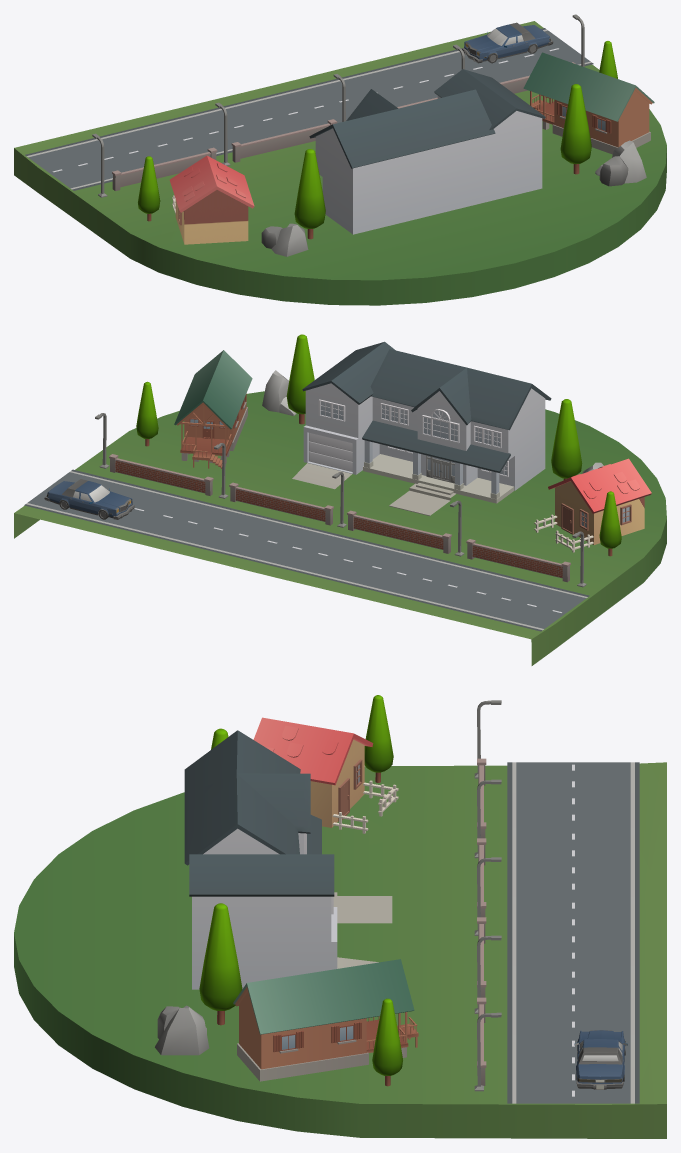
The model's file is Level__Finish.fbx.
The picture shows the model from 3 angles, top to bottom: view 1: azimuth 30°, elevation 25°; view 2: azimuth 150°, elevation 25°; view 3: azimuth 270°, elevation 25°; orthographic projection. The views are drawn at different scales.
Parts seen in each view (by area): view 1: Finish_Ground, TwoFloorHouseFloor, CabinFloor, SmallHouseFloor, Road_4, Road_5, Road_3, Road_2, Road_1, Car, Tree_3, Tree_4 (+6 smaller); view 2: Finish_Ground, TwoFloorHouseFloor, CabinFloor, SmallHouseFloor, Road_4, Road_2, Road_3, Road_5, Road_1, Car, Tree_4, Street_Wall_4 (+7 smaller); view 3: Finish_Ground, TwoFloorHouseFloor, CabinFloor, Road_4, Road_3, Road_2, Road_5, SmallHouseFloor, Road_1, Tree_3, Car, Rock_1 (+2 smaller).
Part boxes in pixels (left/top/right/bottom): Finish_Ground: left=14, top=21, right=666, bottom=305; TwoFloorHouseFloor: left=309, top=69, right=545, bottom=234; CabinFloor: left=523, top=52, right=654, bottom=154; SmallHouseFloor: left=169, top=155, right=254, bottom=244; Road_4: left=124, top=105, right=272, bottom=161; Road_5: left=25, top=130, right=166, bottom=190; Road_3: left=230, top=79, right=362, bottom=136; Road_2: left=335, top=53, right=461, bottom=106; Road_1: left=440, top=28, right=593, bottom=82; Car: left=462, top=22, right=553, bottom=63; Tree_3: left=560, top=84, right=591, bottom=174; Tree_4: left=294, top=149, right=325, bottom=239; Finish_Ground: left=14, top=391, right=666, bottom=665; TwoFloorHouseFloor: left=292, top=341, right=551, bottom=515; CabinFloor: left=174, top=350, right=252, bottom=468; SmallHouseFloor: left=534, top=458, right=651, bottom=552; Road_4: left=337, top=546, right=490, bottom=607; Road_2: left=128, top=495, right=281, bottom=556; Road_3: left=233, top=520, right=385, bottom=581; Road_5: left=442, top=571, right=589, bottom=631; Road_1: left=24, top=469, right=176, bottom=530; Car: left=44, top=479, right=134, bottom=519; Tree_4: left=551, top=399, right=582, bottom=480; Street_Wall_4: left=466, top=539, right=570, bottom=582; Finish_Ground: left=14, top=762, right=666, bottom=1138; TwoFloorHouseFloor: left=184, top=730, right=392, bottom=989; CabinFloor: left=233, top=959, right=418, bottom=1081; Road_4: left=507, top=827, right=639, bottom=896; Road_3: left=507, top=896, right=639, bottom=965; Road_2: left=507, top=965, right=639, bottom=1034; Road_5: left=507, top=762, right=639, bottom=827; SmallHouseFloor: left=253, top=717, right=398, bottom=833; Road_1: left=507, top=1034, right=639, bottom=1103; Tree_3: left=199, top=903, right=242, bottom=1025; Car: left=574, top=1030, right=627, bottom=1089; Rock_1: left=155, top=1005, right=209, bottom=1055.
Bounding box in the file's own units: 1100 × 260 × 888.
